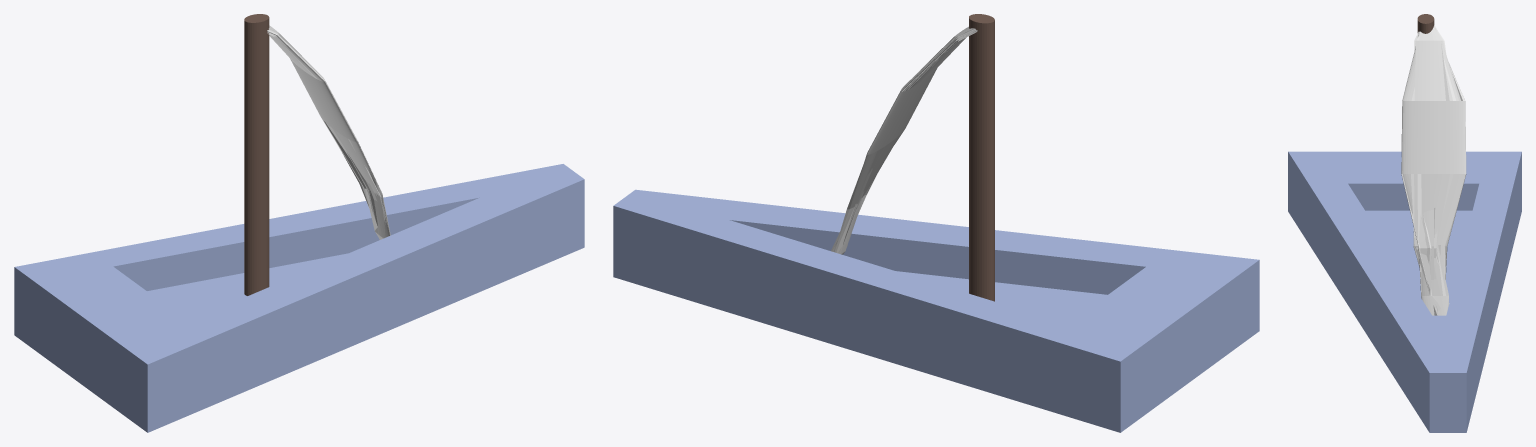
The model's file is ship 1.fbx.
The picture shows the model from 3 angles, left to right: view 1: azimuth 30°, elevation 25°; view 2: azimuth 150°, elevation 25°; view 3: azimuth 270°, elevation 25°; orthographic projection. The views are drawn at different scales.
Parts seen in each view (by area): view 1: Cube; view 2: Cube; view 3: Cube.
Boxes of the visible parts, x1,y1,x2,y2 form: Cube: [14, 14, 584, 432]; Cube: [613, 14, 1259, 432]; Cube: [1288, 14, 1521, 432].
Size of the model in its own units: 3.47 by 1.99 by 1.55.
